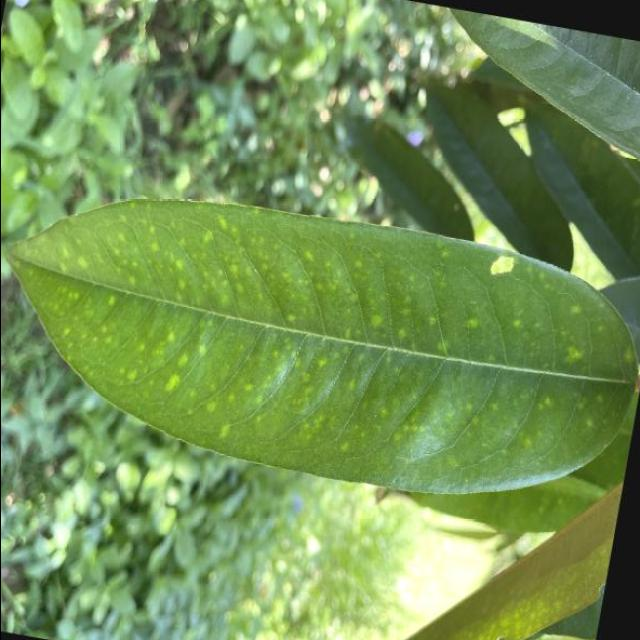Leaf Spot: (0, 154, 640, 540)
